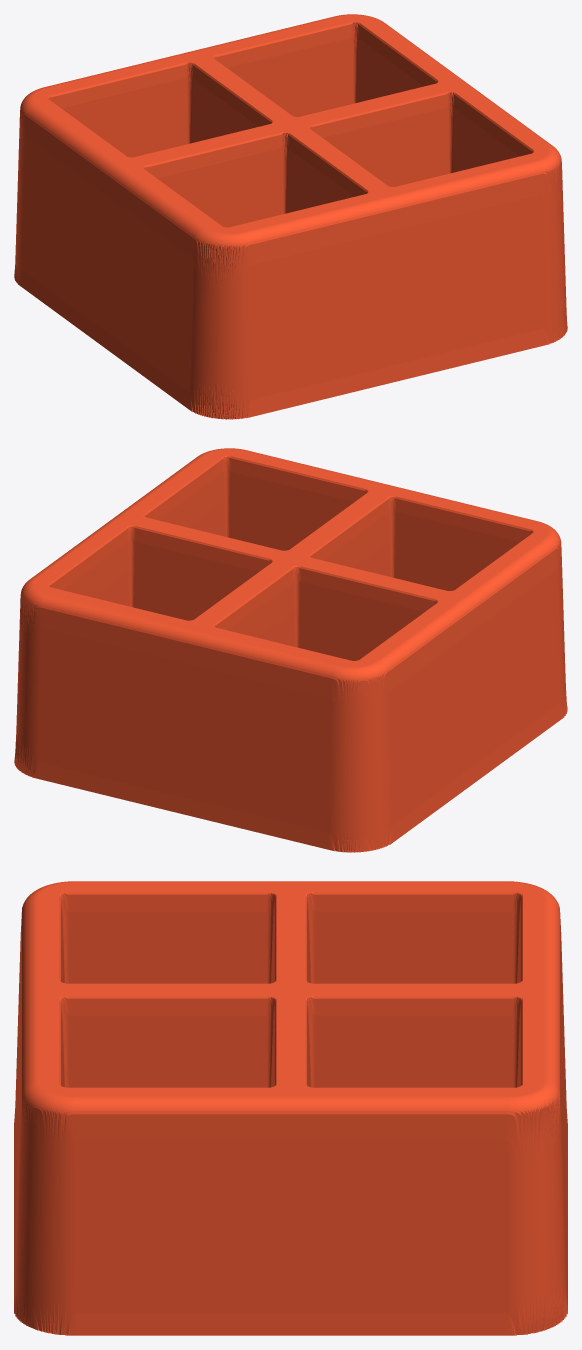
Rendered from mold.glb.
3 renders of one model, top to bottom at view 1: azimuth 30°, elevation 25°; view 2: azimuth 150°, elevation 25°; view 3: azimuth 270°, elevation 25°, orthographic. The views are drawn at different scales.
Visible parts, largest first — view 1: geometry_0; view 2: geometry_0; view 3: geometry_0.
Part boxes in pixels (left/top/right/bottom): geometry_0: left=14, top=14, right=567, bottom=419; geometry_0: left=14, top=448, right=567, bottom=852; geometry_0: left=14, top=881, right=567, bottom=1335.
Bounding box in the file's own units: 0.0828 × 0.0378 × 0.0828.
